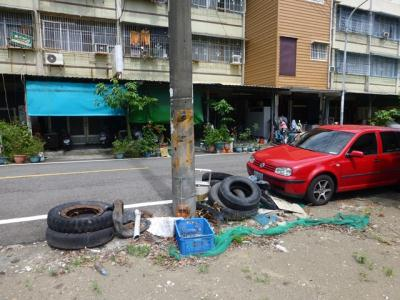tire: (45, 200, 118, 235), (216, 173, 262, 212), (45, 224, 115, 248)
